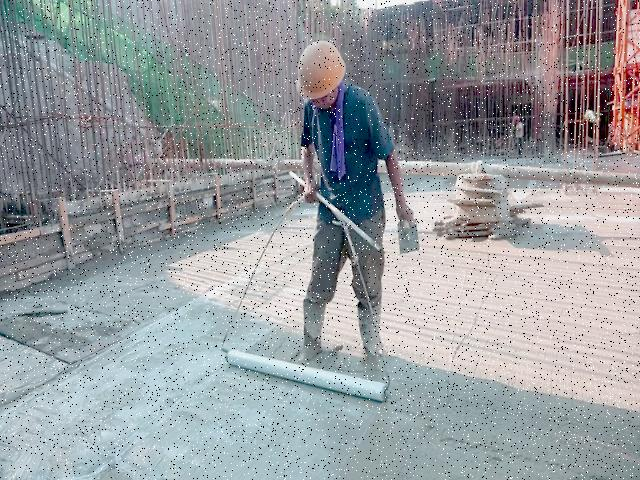Helmet: (294, 36, 350, 103)
